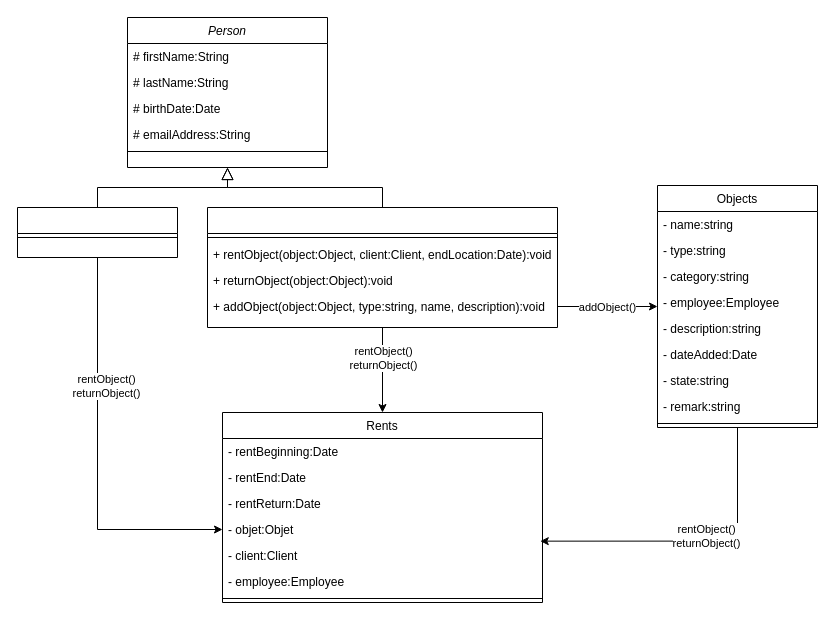
This 835x620 diagram has some shape labels left out. The box of each missing label's shape, as (x1, y1, x2, y2) in pixels:
Client: (16, 206, 178, 258)
Employee: (206, 206, 558, 328)
